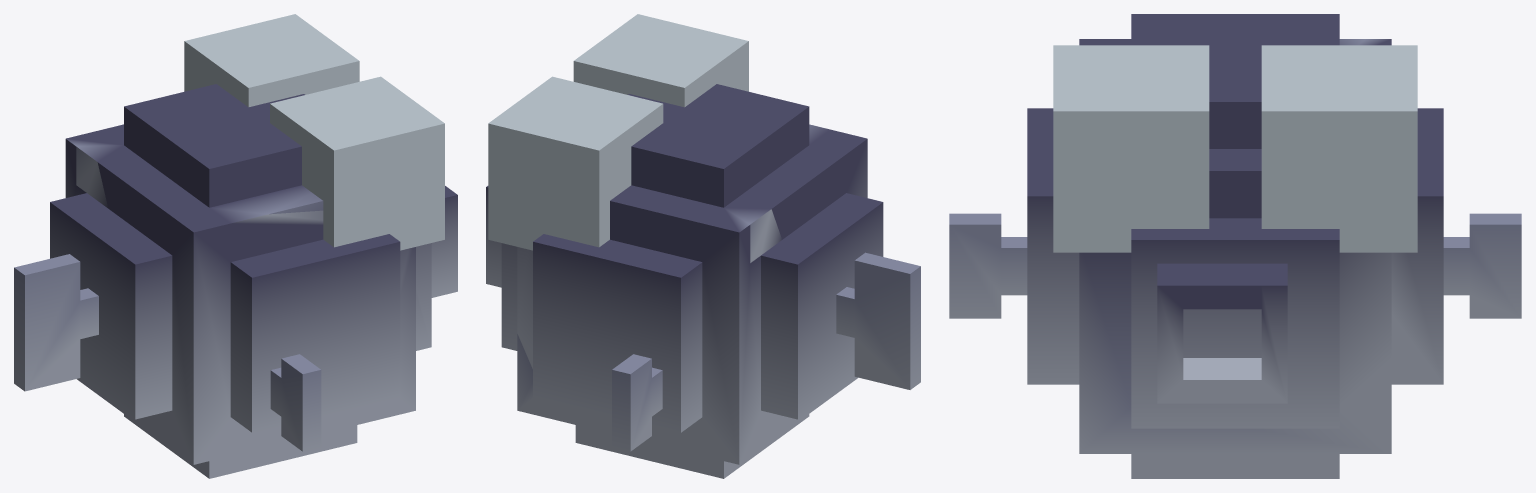
The model's file is pufferfish.glb.
The picture shows the model from 3 angles, left to right: view 1: azimuth 30°, elevation 25°; view 2: azimuth 150°, elevation 25°; view 3: azimuth 270°, elevation 25°; orthographic projection. The views are drawn at different scales.
Visible parts, largest first — view 1: pufferfish; view 2: pufferfish; view 3: pufferfish.
Part boxes in pixels (x1,y1,x2,y2): pufferfish: (14, 14, 457, 478); pufferfish: (486, 14, 920, 478); pufferfish: (949, 14, 1521, 478).
Bounding box in the file's own units: 2 × 1.55 × 2.
